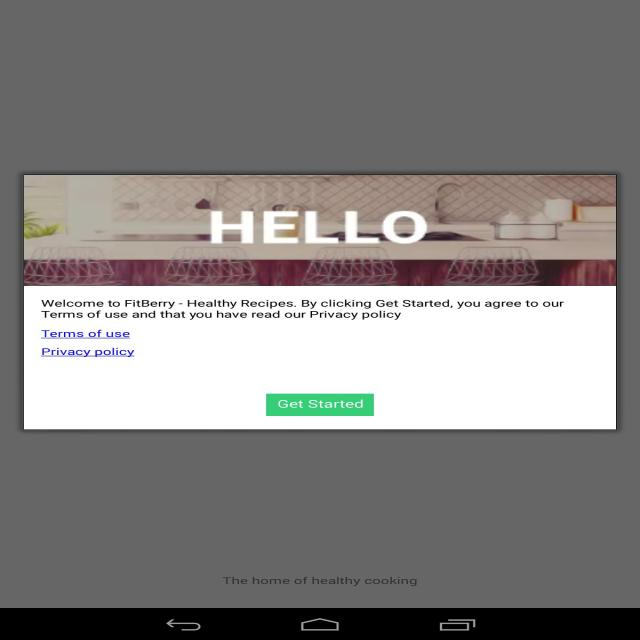button: (266, 394, 374, 415)
heading: (208, 208, 426, 244)
image: (22, 175, 616, 285)
link: (41, 346, 135, 359), (41, 329, 133, 340)
text: (41, 298, 568, 320), (225, 574, 424, 588)
